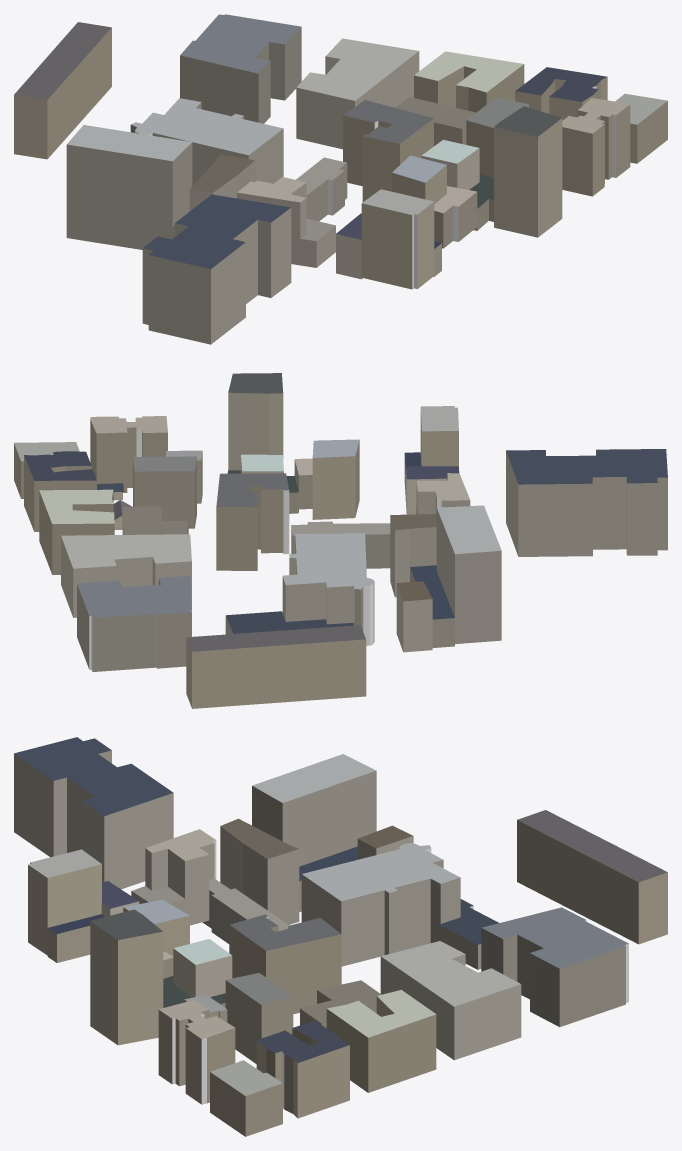
3 renders of one model, top to bottom at view 1: azimuth 30°, elevation 25°; view 2: azimuth 150°, elevation 25°; view 3: azimuth 270°, elevation 25°, orthographic. The views are drawn at different scales.
Visible parts, largest first — view 1: tuile; view 2: tuile; view 3: tuile.
Boxes of the visible parts, bbox=[...] form: tuile: bbox=[14, 14, 667, 344]; tuile: bbox=[14, 373, 667, 708]; tuile: bbox=[14, 737, 667, 1136].
Bounding box in the file's own units: 289 × 50.41 × 262.
